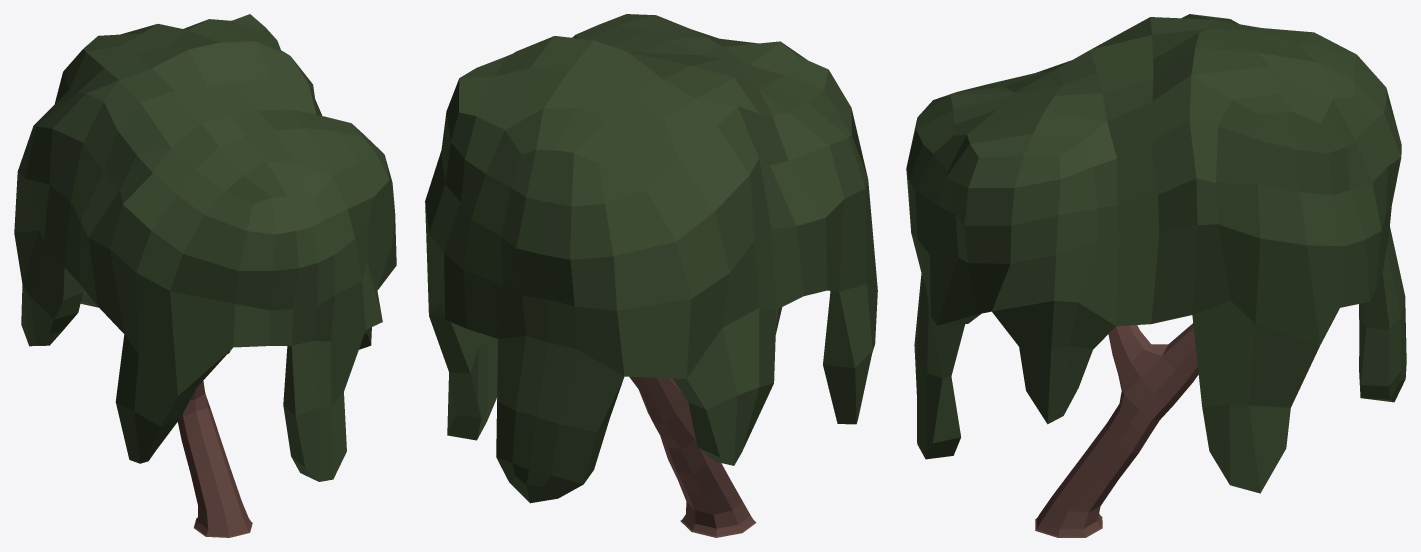
File: willow-4.glb
3 renders of one model, left to right at view 1: azimuth 30°, elevation 25°; view 2: azimuth 150°, elevation 25°; view 3: azimuth 270°, elevation 25°, orthographic. The views are drawn at different scales.
Visible parts, largest first — view 1: Willow_4; view 2: Willow_4; view 3: Willow_4.
Boxes of the visible parts, x1,y1,x2,y2 form: Willow_4: (14, 14, 396, 537); Willow_4: (425, 14, 877, 537); Willow_4: (906, 14, 1406, 537).
Size of the model in its own units: 2.19 by 3.39 by 3.04.
